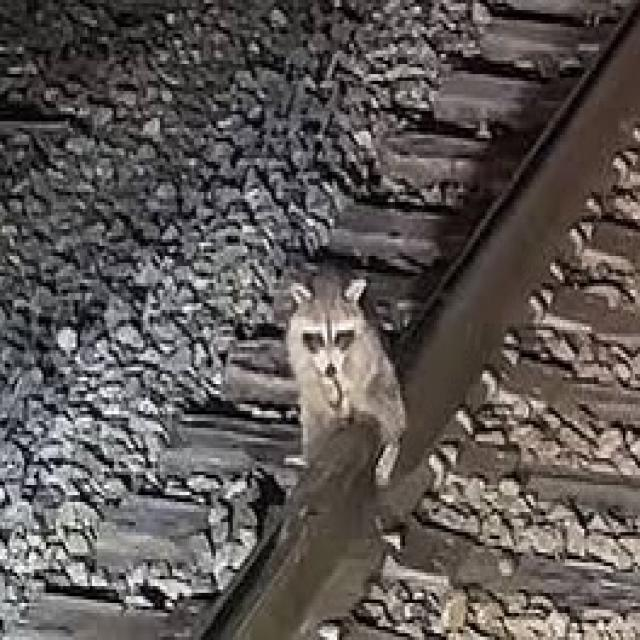racoon: (276, 280, 420, 492)
